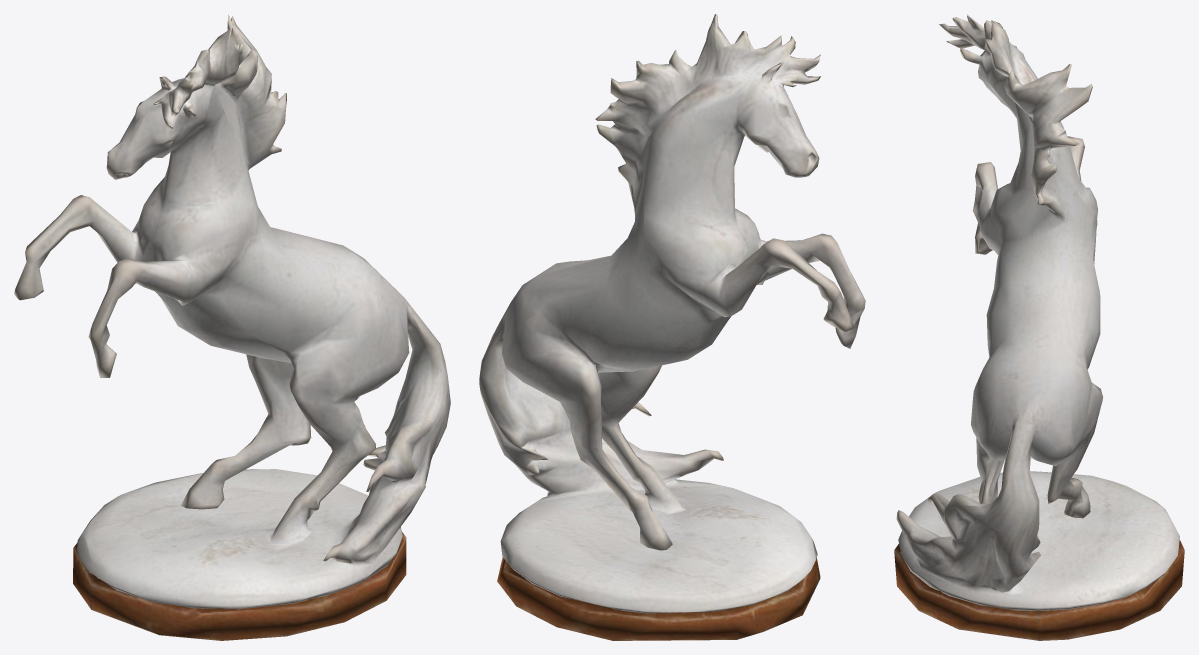
File: horse_statue_01.glb
3 views of the same model, side by side, from view 1: azimuth 30°, elevation 25°; view 2: azimuth 150°, elevation 25°; view 3: azimuth 270°, elevation 25° (orthographic). The views are drawn at different scales.
Parts seen in each view (by area): view 1: horse_statue_01, horse_statue_01_base; view 2: horse_statue_01, horse_statue_01_base; view 3: horse_statue_01, horse_statue_01_base.
Boxes of the visible parts, x1,y1,x2,y2 form: horse_statue_01: (14, 15, 450, 609); horse_statue_01_base: (73, 531, 406, 640); horse_statue_01: (479, 14, 865, 613); horse_statue_01_base: (497, 557, 820, 640); horse_statue_01: (896, 14, 1179, 610); horse_statue_01_base: (894, 540, 1184, 640).
Bounding box in the file's own units: 0.1621 × 0.2194 × 0.1078.
2 materials, 2 textured.
